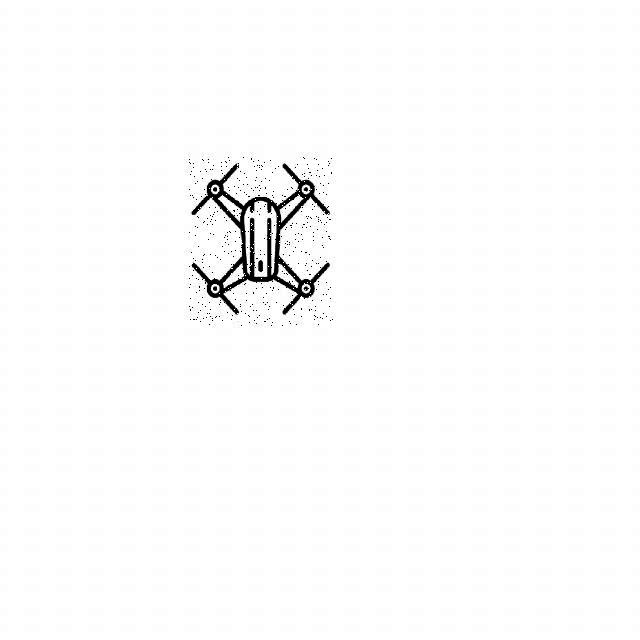drone: (190, 159, 334, 327)
